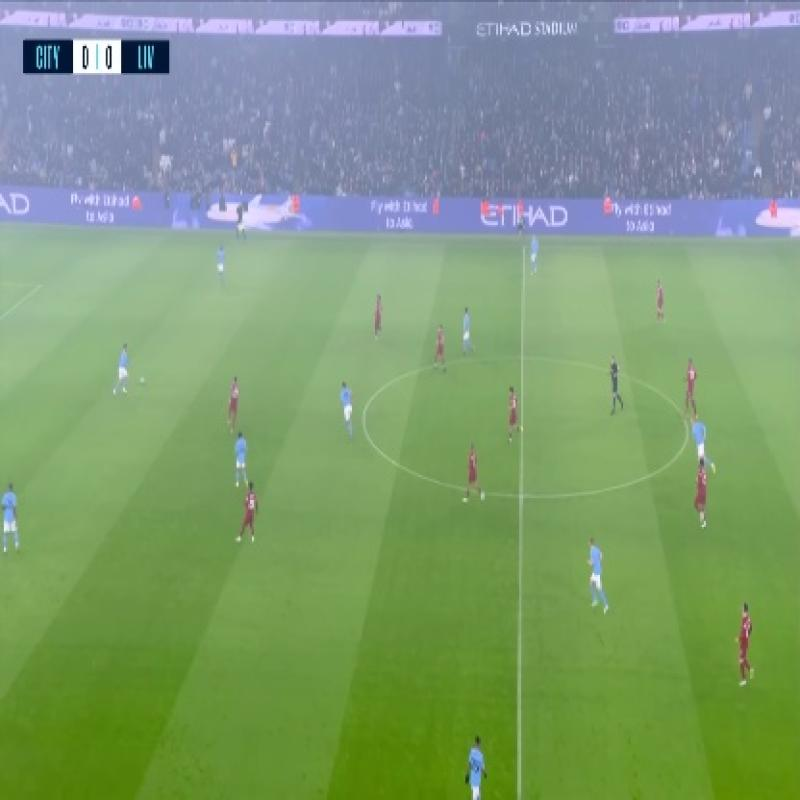13: (513, 233, 531, 258)
14: (508, 340, 534, 372)
15: (508, 479, 532, 511)
9: (25, 269, 52, 302)
c: (349, 397, 384, 435), (676, 418, 703, 450)
